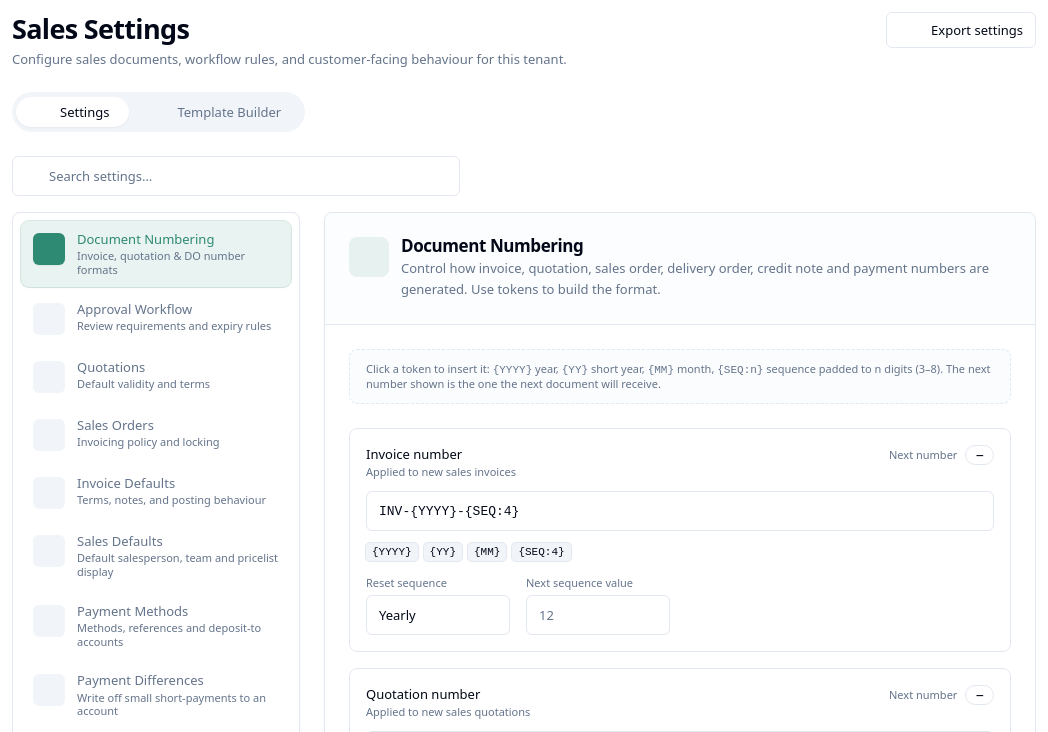
Test: settings search (#549) › says so when nothing matches
The width and height of the screenshot is (1048, 732).
Expected: the field showing "INV-{YYYY}-{SEQ:4}" is shown, [366,491,994,531]
Type "zzz-nothing" into the search field labelled "Search settings" at (236, 176), box [12,156,460,196]
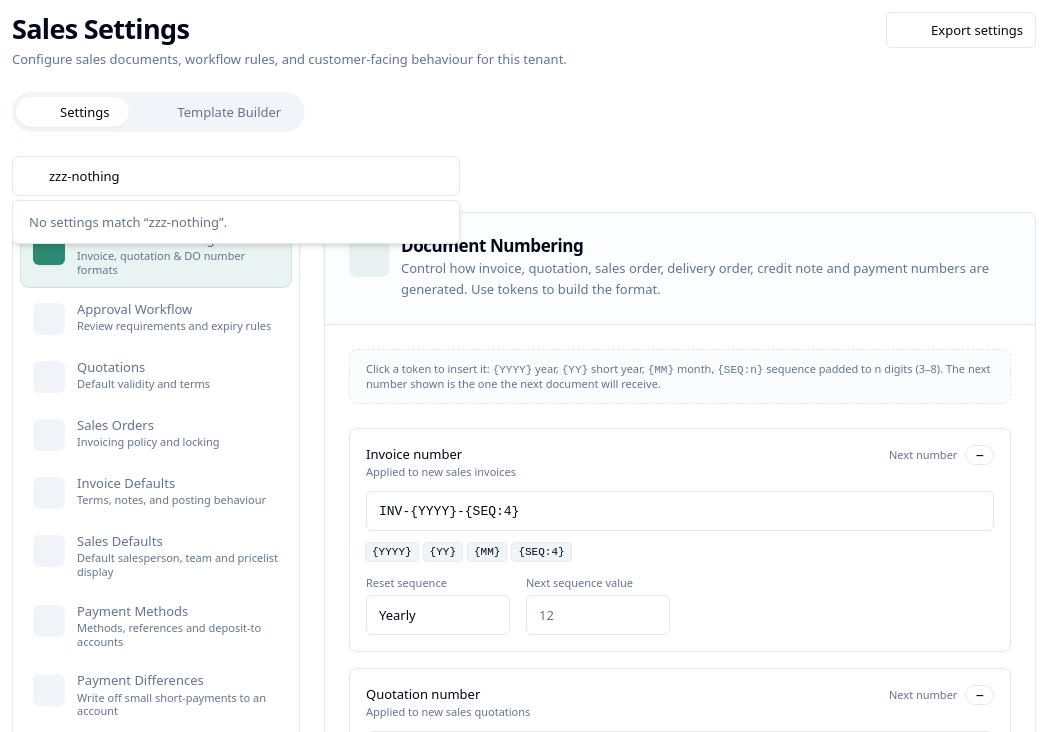
Now the text "No settings match “zzz-nothing”." is shown, box [29,213,227,231]
